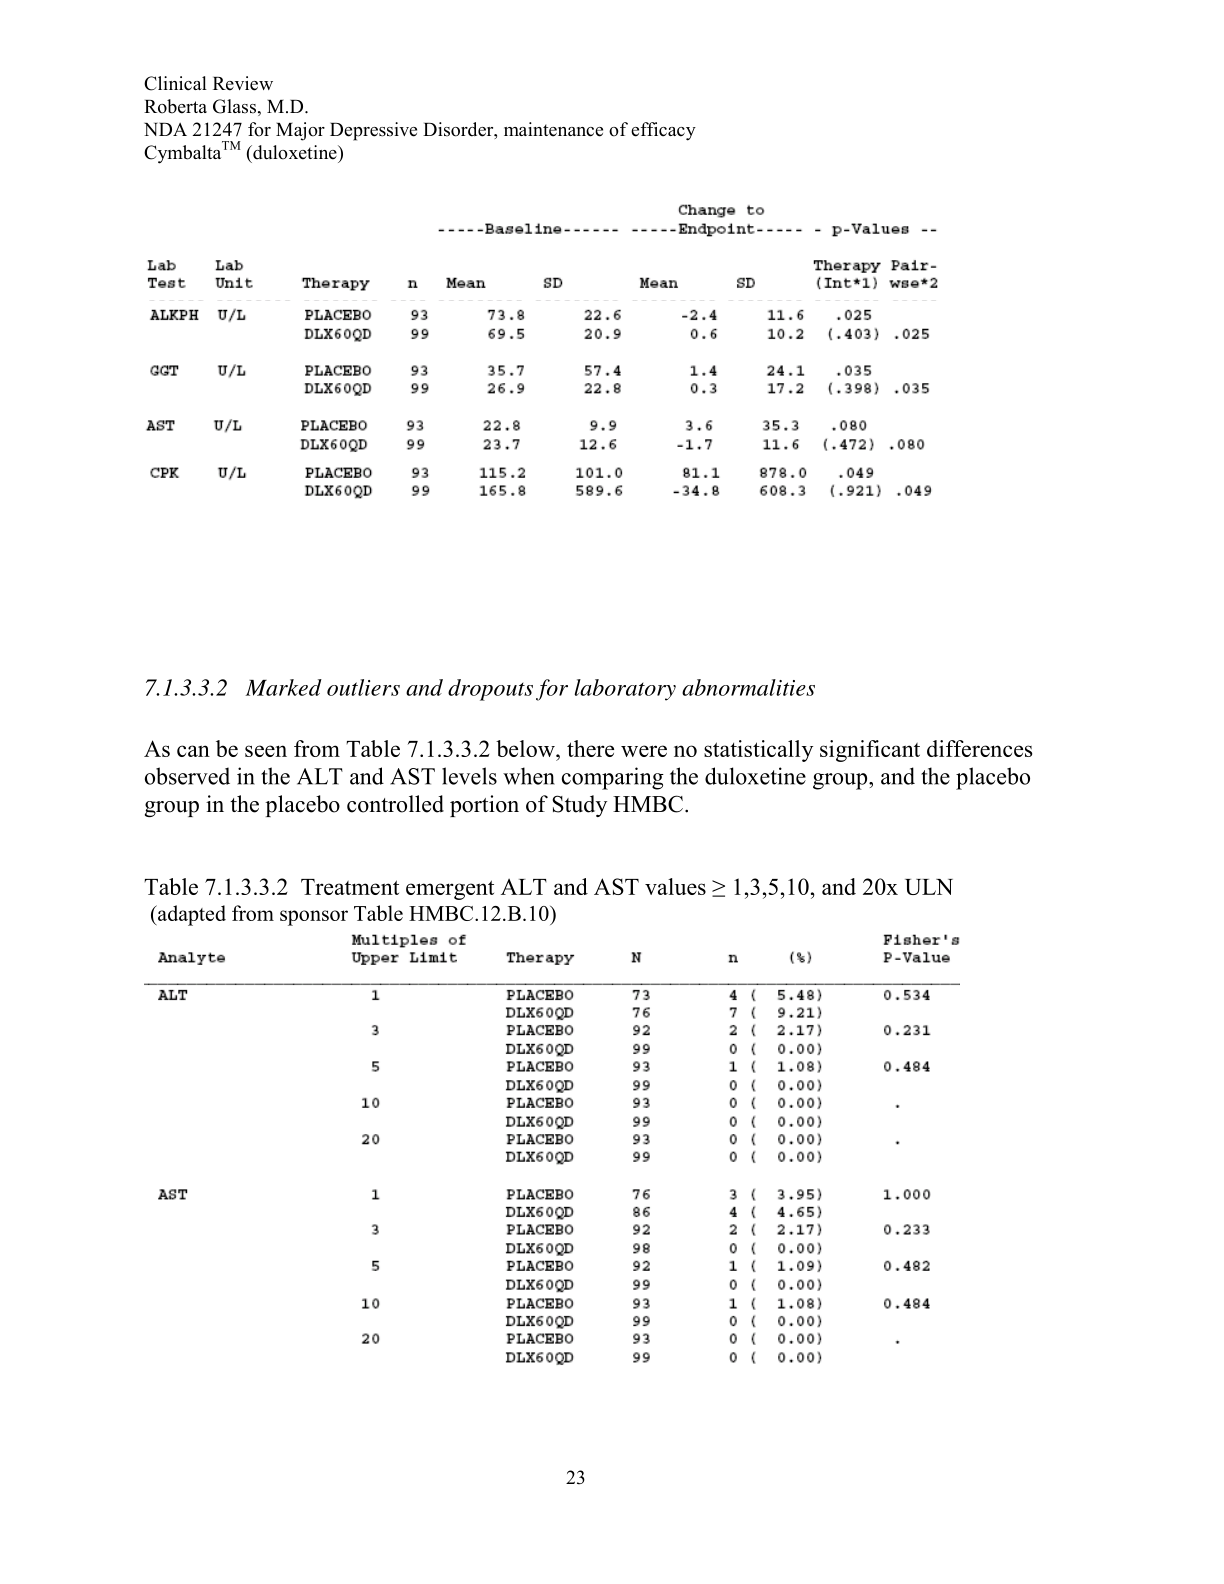nolines: (144, 219, 941, 498)
partial_lined: (141, 932, 960, 1367)
